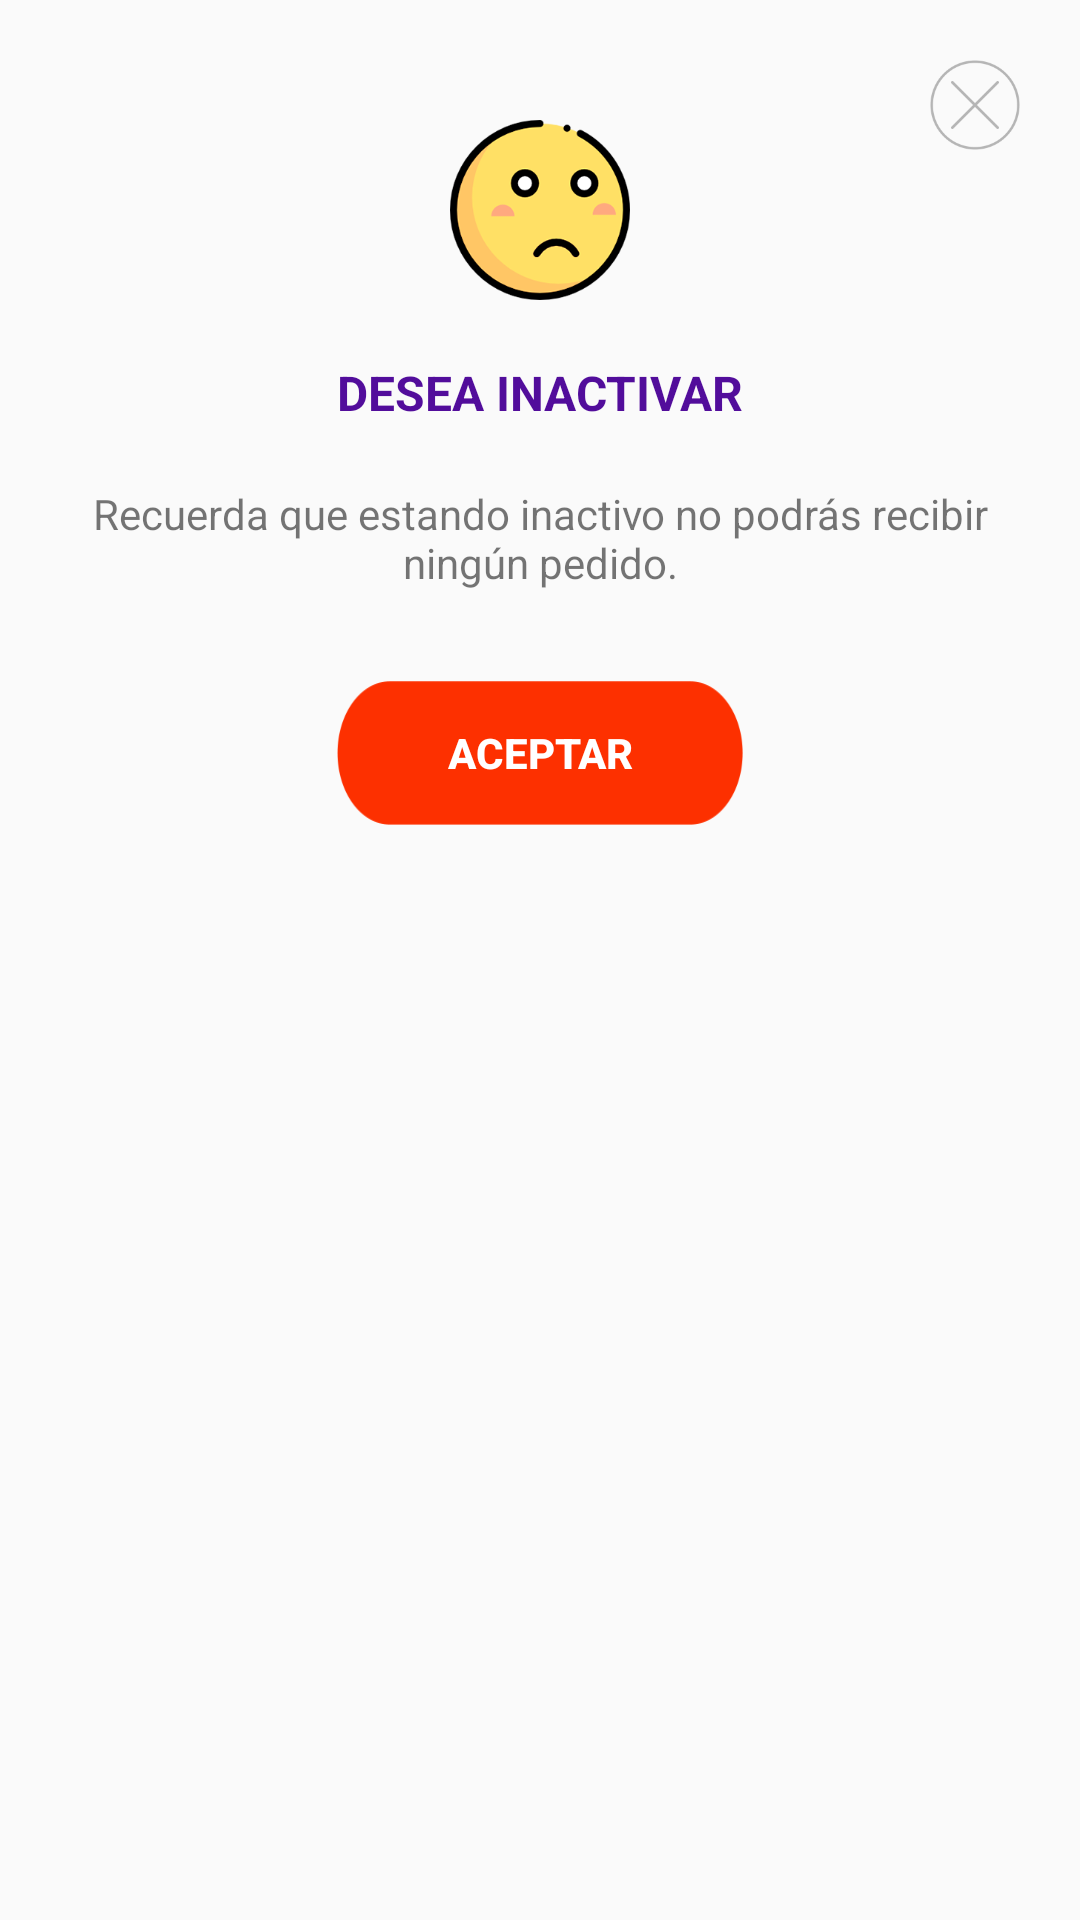

Where icons sit on this 1080px×1920px app screen, as (x1, y1, x2, y2):
close: (930, 60, 1020, 150)
sad: (450, 120, 630, 300)
